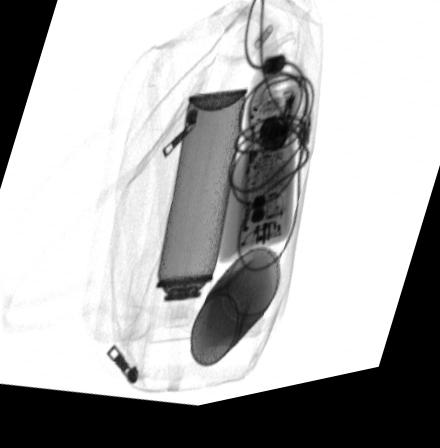Lighter: (253, 163, 287, 257)
Sprayer: (148, 100, 248, 348)
